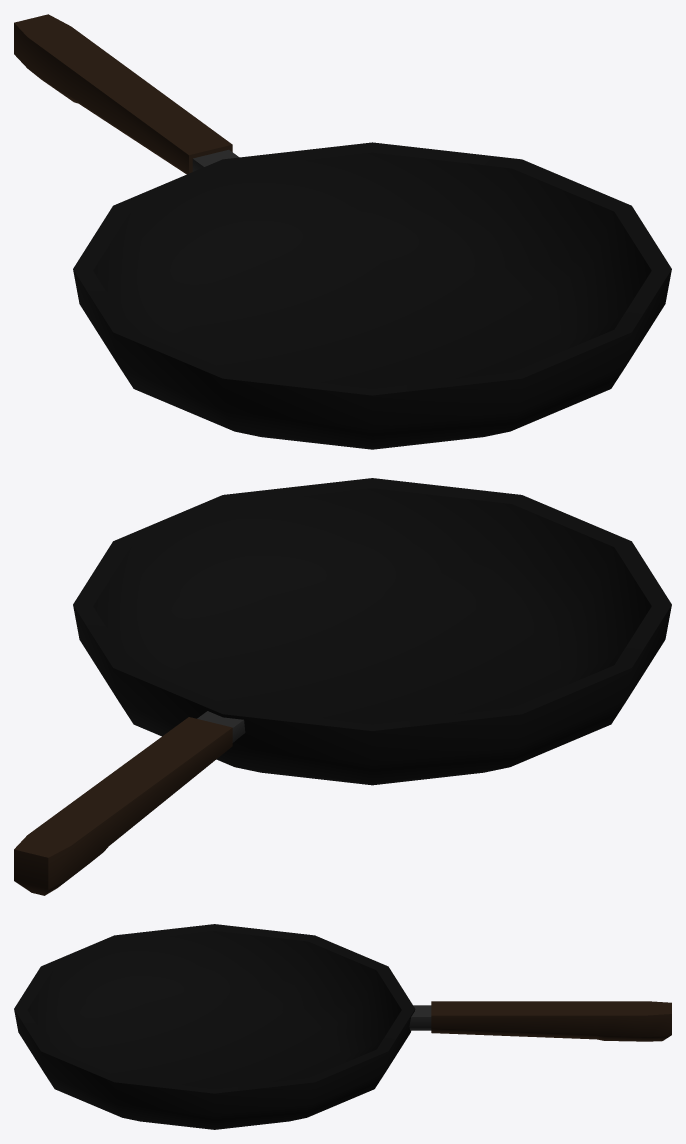
Rendered from Pan.fbx.
3 views of the same model, one above another, from view 1: azimuth 30°, elevation 25°; view 2: azimuth 150°, elevation 25°; view 3: azimuth 270°, elevation 25° (orthographic). The views are drawn at different scales.
Visible parts, largest first — view 1: Pan; view 2: Pan; view 3: Pan.
Boxes of the visible parts, <box> form: Pan: <box>14,14,671,449</box>; Pan: <box>14,478,671,895</box>; Pan: <box>14,924,671,1129</box>.
Bounding box in the file's own units: 98.69 × 162 × 19.59.
